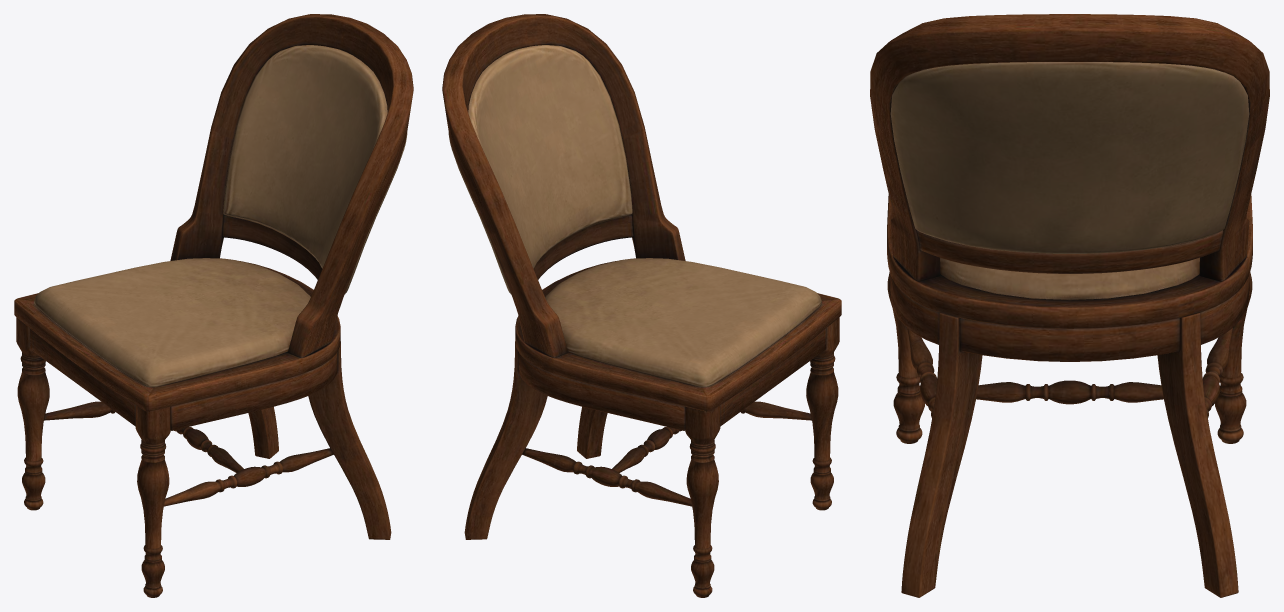
File: broken_chair.glb
The picture shows the model from 3 angles, left to right: view 1: azimuth 30°, elevation 25°; view 2: azimuth 150°, elevation 25°; view 3: azimuth 270°, elevation 25°; orthographic projection. The views are drawn at different scales.
Parts seen in each view (by area): view 1: Chair_Chair_0; view 2: Chair_Chair_0; view 3: Chair_Chair_0.
Part boxes in pixels (x1=…): Chair_Chair_0: x1=14, y1=14, x2=413, y2=597; Chair_Chair_0: x1=442, y1=14, x2=841, y2=597; Chair_Chair_0: x1=870, y1=14, x2=1269, y2=597.
Size of the model in its own units: 0.6988 by 0.9756 by 0.5827.
Materials: 1 (1 with a texture image).
